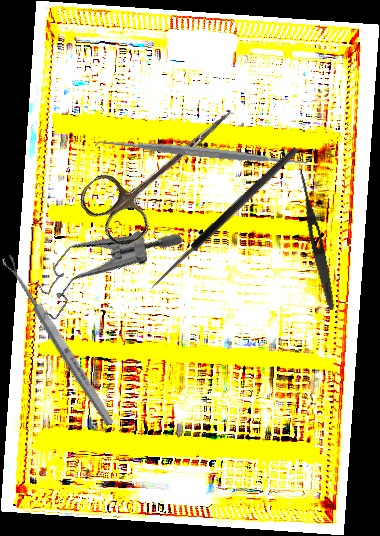Dressing Forceps: (293, 167, 339, 312)
Hook Surgical: (147, 144, 307, 300)
Iris Scissors: (73, 81, 253, 254)
Spatula Surgical: (94, 128, 315, 176)
Speculum: (22, 184, 185, 357)
Surgical Spoon: (0, 253, 117, 428)
